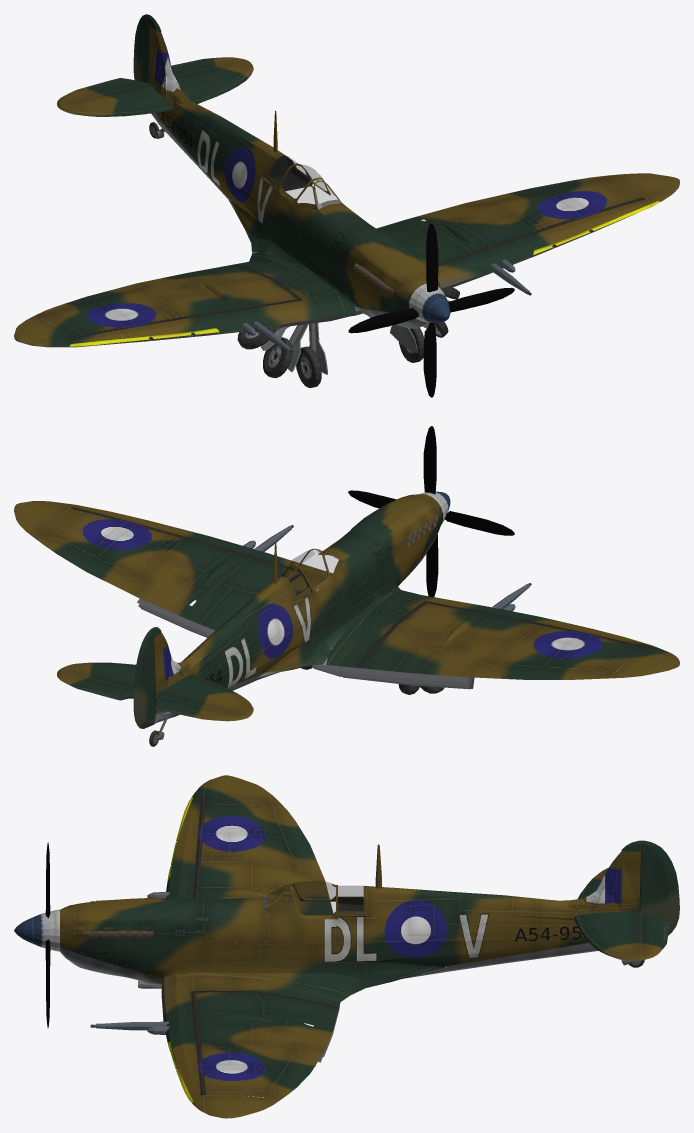
Rendered from RAAF-1.gltf.
3 views of the same model, one above another, from view 1: azimuth 30°, elevation 25°; view 2: azimuth 150°, elevation 25°; view 3: azimuth 270°, elevation 25° (orthographic). The views are drawn at different scales.
Visible parts, largest first — view 1: Exterior, Spin_1, Pose_gear_3, Pose_gear_2, Spin_0, Pose_gear_1; view 2: Exterior, Spin_1, Pose_flaps_1, Pose_flaps_2, Pose_flaps_3; view 3: Exterior, Spin_0, Spin_1.
Boxes of the visible parts, x1=… form: Exterior: x1=14, y1=14, x2=679, y2=353; Spin_1: x1=348, y1=223, x2=514, y2=397; Pose_gear_3: x1=296, y1=322, x2=424, y2=387; Pose_gear_2: x1=263, y1=322, x2=448, y2=378; Spin_0: x1=409, y1=283, x2=450, y2=322; Pose_gear_1: x1=237, y1=287, x2=459, y2=350; Exterior: x1=14, y1=494, x2=679, y2=746; Spin_1: x1=348, y1=426, x2=514, y2=596; Pose_flaps_1: x1=137, y1=598, x2=470, y2=682; Pose_flaps_2: x1=138, y1=604, x2=472, y2=686; Pose_flaps_3: x1=141, y1=608, x2=473, y2=689; Exterior: x1=60, y1=775, x2=679, y2=1118; Spin_0: x1=14, y1=909, x2=59, y2=951; Spin_1: x1=45, y1=842, x2=50, y2=1027.
Size of the model in its own units: 11.25 by 3.32 by 9.23.
11 materials, 8 textured.
